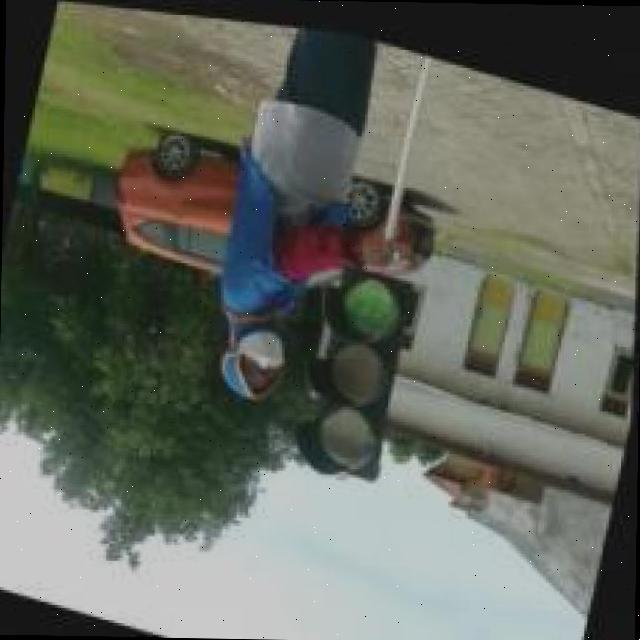green_light: (287, 251, 421, 484)
